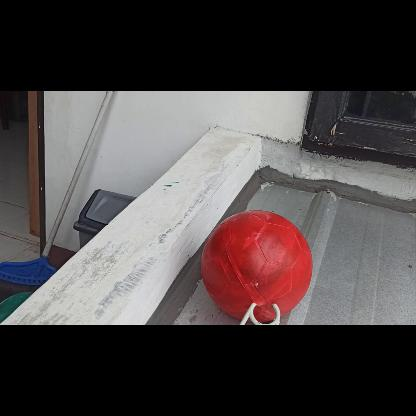red_ball: (202, 209, 314, 321)
